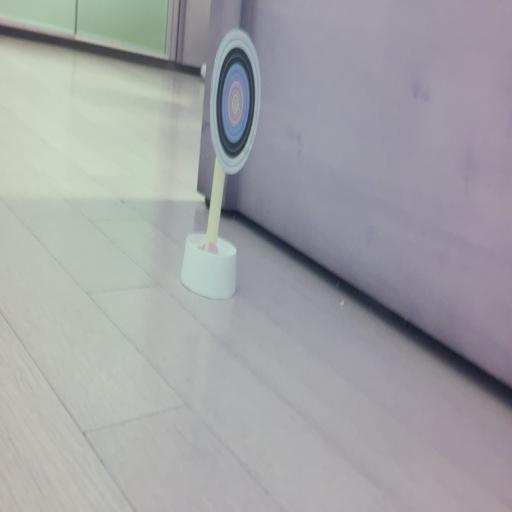target: (210, 28, 261, 174)
